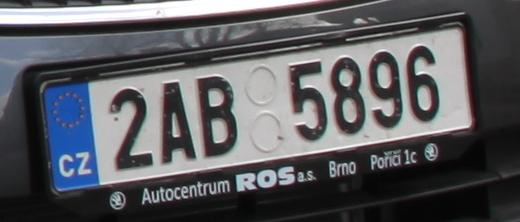2: (108, 86, 154, 170)
5: (286, 57, 329, 144)
6: (406, 43, 443, 125)
8: (330, 57, 369, 137)
9: (366, 51, 405, 132)
A: (158, 78, 198, 167)
B: (199, 73, 241, 158)
